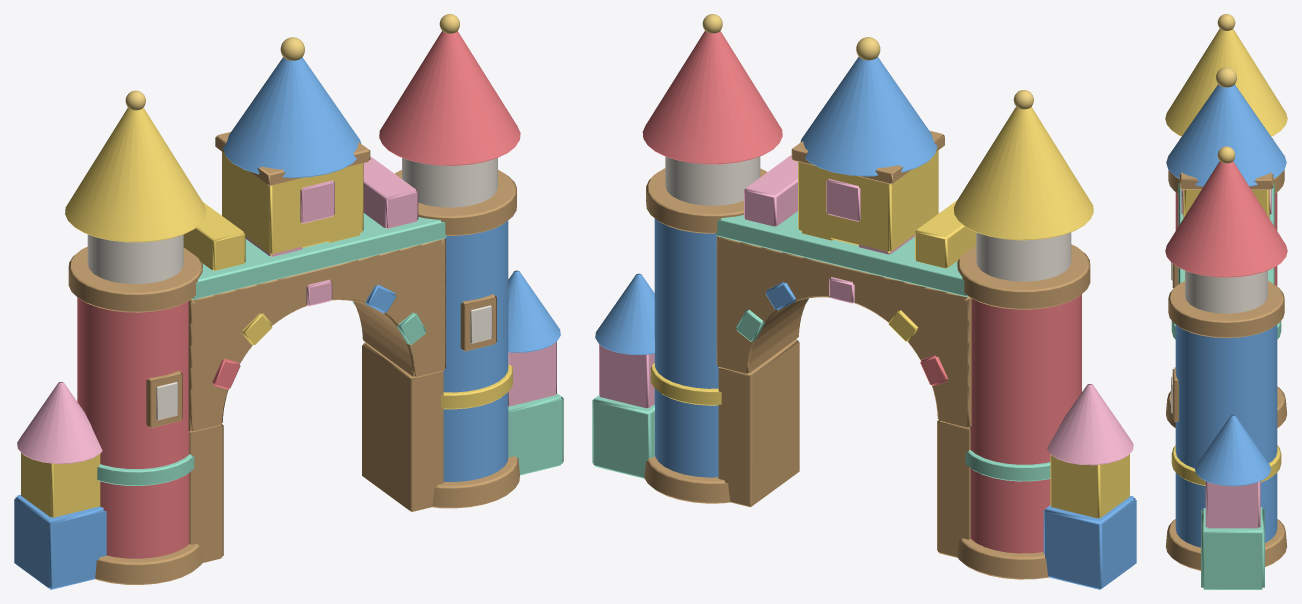
Rendered from castle_arch_gate.glb.
The picture shows the model from 3 angles, left to right: view 1: azimuth 30°, elevation 25°; view 2: azimuth 150°, elevation 25°; view 3: azimuth 270°, elevation 25°; orthographic projection. The views are drawn at different scales.
Parts seen in each view (by area): view 1: TowerCyl_0, MainArchSpan, TowerCyl_1, Roof_0, Roof_1, ArchPier_2.5, CenterRoof, CenterTurret, UpperPastelDeck, WingBase_0, Collar_0, ArchPier_-2.5 (+20 smaller); view 2: TowerCyl_0, MainArchSpan, TowerCyl_1, Roof_1, Roof_0, ArchPier_2.5, CenterRoof, CenterTurret, WingBase_0, UpperPastelDeck, Collar_0, WingBase_1 (+16 smaller); view 3: TowerCyl_1, Roof_1, CenterRoof, Roof_0, WingBase_1, Collar_1, WingRoof_1, UpperTurret_1, WingTop_1, Plinth_1, TowerMidBand_1, CenterTurretTrim (+9 smaller).
Part boxes in pixels (x1,y1,x2,y2): TowerCyl_0: (77, 297, 189, 558); MainArchSpan: (188, 238, 445, 432); TowerCyl_1: (443, 220, 508, 481); Roof_0: (65, 107, 206, 242); Roof_1: (379, 31, 520, 165); ArchPier_2.5: (362, 342, 443, 511); CenterRoof: (223, 57, 361, 177); CenterTurret: (222, 152, 363, 255); UpperPastelDeck: (192, 213, 446, 299); WingBase_0: (14, 494, 106, 589); Collar_0: (68, 246, 202, 312); ArchPier_-2.5: (189, 424, 223, 562); TowerCyl_0: (970, 294, 1081, 553); MainArchSpan: (716, 236, 971, 428); TowerCyl_1: (654, 218, 718, 477); Roof_1: (642, 31, 782, 164); Roof_0: (954, 107, 1093, 240); ArchPier_2.5: (718, 339, 799, 507); CenterRoof: (800, 57, 937, 176); CenterTurret: (798, 150, 938, 253); WingBase_0: (1043, 495, 1136, 589); UpperPastelDeck: (715, 211, 967, 296); Collar_0: (957, 244, 1090, 309); WingBase_1: (592, 395, 654, 478); TowerCyl_1: (1175, 325, 1277, 547); Roof_1: (1165, 161, 1287, 277); CenterRoof: (1166, 84, 1286, 186); Roof_0: (1165, 28, 1287, 136); WingBase_1: (1201, 507, 1264, 589); Collar_1: (1168, 281, 1284, 337); WingRoof_1: (1195, 415, 1271, 486); UpperTurret_1: (1185, 270, 1267, 313); WingTop_1: (1205, 481, 1260, 528); Plinth_1: (1165, 519, 1287, 570); TowerMidBand_1: (1171, 445, 1281, 485); CenterTurretTrim: (1179, 172, 1273, 189).
Bounding box in the file's own units: 12.03 × 10.36 × 2.78.
